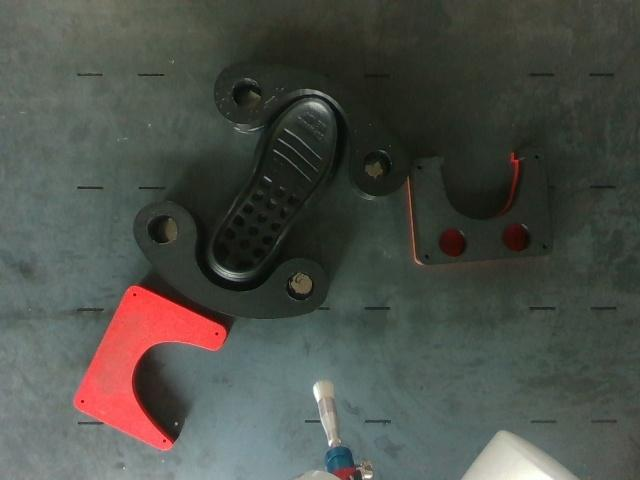shoes: (212, 99, 334, 273)
